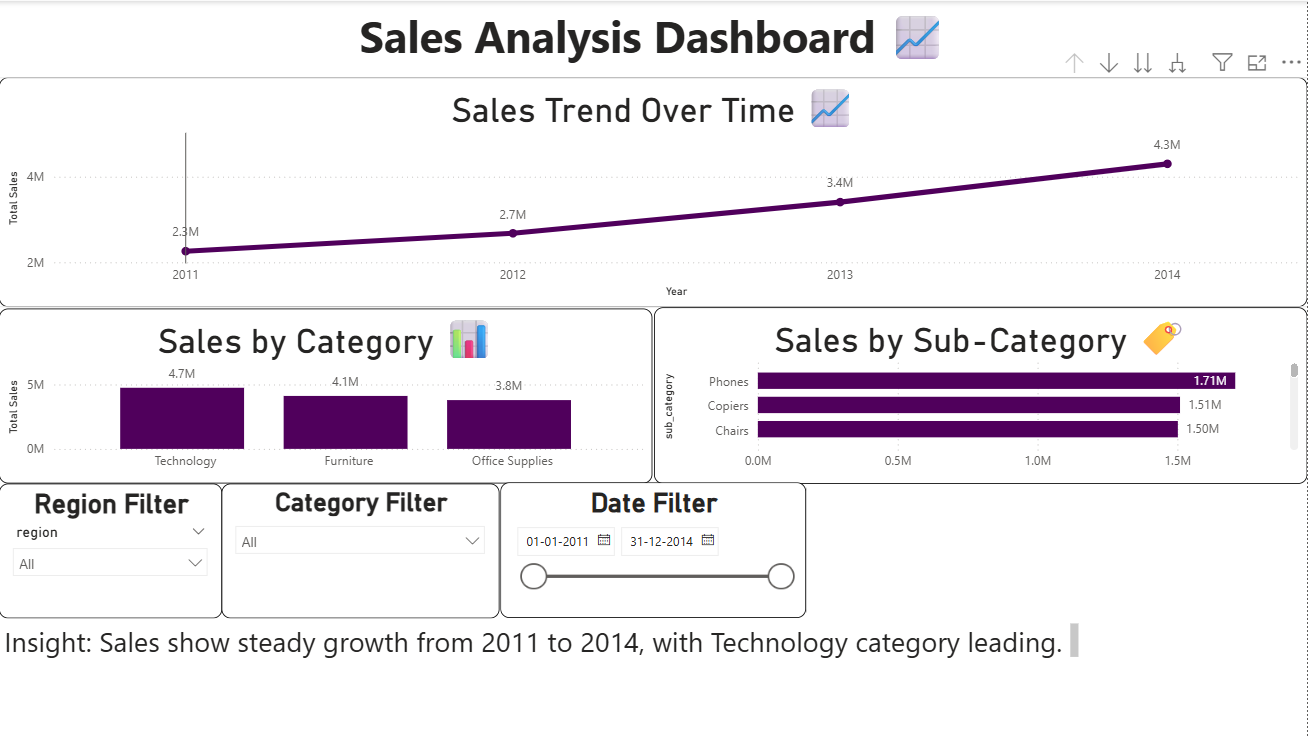

The page's visual inventory and layout, read from the dashboard file:
{"tool":"powerbi","page":{"name":"Sales Analysis","canvas":[1280,720],"ordinal":1},"visuals":[{"type":"textbox","box":[9.6,0,279.9,74.1],"z":0},{"type":"textbox","box":[0,0,1280.3,74.1],"z":1000},{"type":"lineChart","title":"Sales Trend Over Time 📈","fields":{"Y":["Sales_Data.Total Sales"],"Category":["Sales_Data.order_date.Variation.Date Hierarchy.Year","Sales_Data.order_date.Variation.Date Hierarchy.Month"]},"box":[0,74.1,1280.3,225],"z":2000},{"type":"clusteredColumnChart","title":"Sales by Category 📊","fields":{"Category":["Sales_Data.category"],"Y":["Sales_Data.Total Sales"]},"box":[0,300.5,639.5,171.5],"z":3000},{"type":"barChart","title":"Sales by Sub-Category 🏷️","fields":{"Category":["Sales_Data.sub_category"],"Y":["Sales_Data.Total Sales"]},"box":[640.8,299.1,639.5,172.9],"z":4000},{"type":"slicer","title":"Region Filter","fields":{"Values":["Sales_Data.region"]},"box":[0,472,218.2,131.7],"z":5000},{"type":"slicer","title":"Date Filter","fields":{"Values":["Sales_Data.order_date"]},"box":[489.9,470.7,299.1,133.1],"z":6000},{"type":"slicer","title":"Category Filter","fields":{"Values":["Sales_Data.category"]},"box":[218.2,472,271.7,131.7],"z":7000},{"type":"textbox","box":[0,603.8,1060.7,43.9],"z":8000}]}

Visuals, with their boxes in screenshot pixels (x1, y1, x2, y2), scaled from the page's 1280x720 canvas onto the 1308x736 screenshot:
textbox: bbox=[10, 0, 296, 76]
textbox: bbox=[0, 0, 1307, 76]
"Sales Trend Over Time 📈" lineChart: bbox=[0, 76, 1307, 306]
"Sales by Category 📊" clusteredColumnChart: bbox=[0, 307, 653, 482]
"Sales by Sub-Category 🏷️" barChart: bbox=[655, 306, 1307, 482]
"Region Filter" slicer: bbox=[0, 482, 223, 617]
"Date Filter" slicer: bbox=[501, 481, 806, 617]
"Category Filter" slicer: bbox=[223, 482, 501, 617]
textbox: bbox=[0, 617, 1084, 662]
